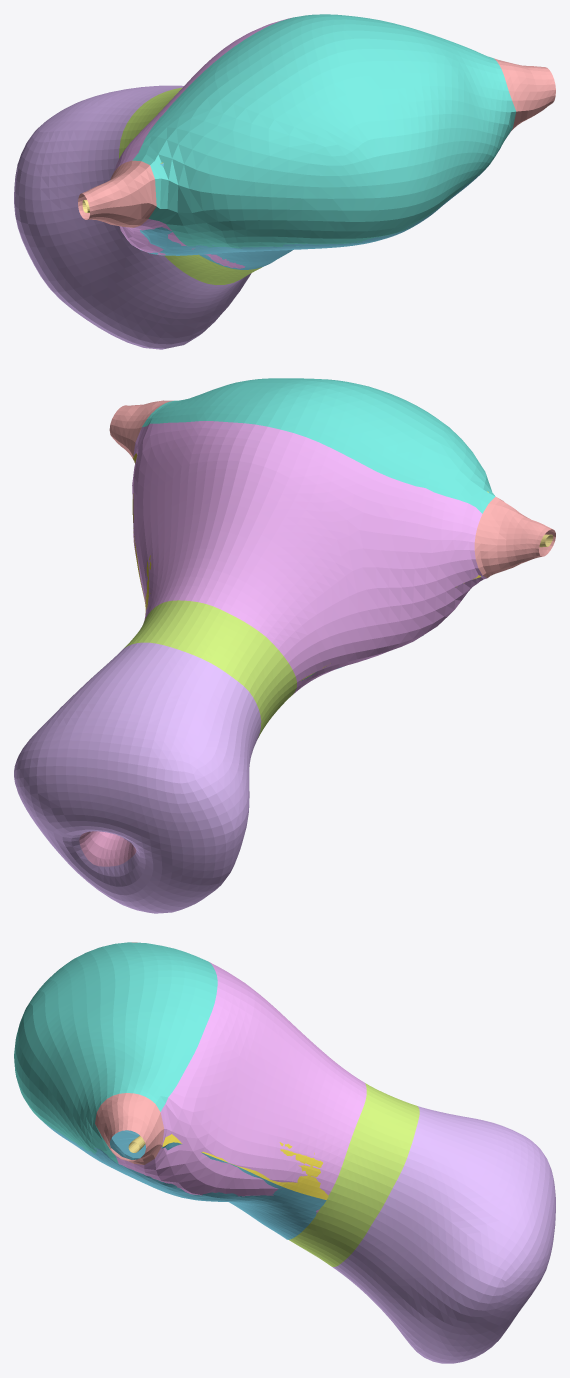
The model's file is organ-uterus.glb.
3 views of the same model, one above another, from view 1: azimuth 30°, elevation 25°; view 2: azimuth 150°, elevation 25°; view 3: azimuth 270°, elevation 25° (orthographic). The views are drawn at different scales.
Visible parts, largest first — view 1: fundus-of-uterus, cervix, cornua, posterior-wall-of-uterus, lower-uterine-segment, body-of-uterus; view 2: body-of-uterus, cervix, fundus-of-uterus, lower-uterine-segment, cornua, external-cervical-os; view 3: cervix, body-of-uterus, fundus-of-uterus, lower-uterine-segment, posterior-wall-of-uterus, cornua, anterior-wall-of-uterus.
Part boxes in pixels (x1,y1,x2,y2): fundus-of-uterus: (132, 14, 516, 248); cervix: (14, 85, 251, 349); cornua: (78, 58, 555, 227); posterior-wall-of-uterus: (140, 147, 500, 269); lower-uterine-segment: (119, 87, 262, 285); body-of-uterus: (114, 18, 511, 268); body-of-uterus: (132, 421, 486, 694); cervix: (14, 642, 261, 913); fundus-of-uterus: (142, 378, 495, 513); lower-uterine-segment: (124, 600, 296, 737); cornua: (109, 400, 555, 578); external-cervical-os: (79, 831, 136, 866); cervix: (332, 1106, 555, 1363); body-of-uterus: (115, 962, 366, 1213); fundus-of-uterus: (14, 942, 217, 1163); lower-uterine-segment: (289, 1083, 419, 1266); posterior-wall-of-uterus: (40, 1119, 326, 1239); cornua: (95, 942, 164, 1164); anterior-wall-of-uterus: (162, 1134, 328, 1199).
Size of the model in its own units: 0.0525 by 0.047 by 0.0587.
